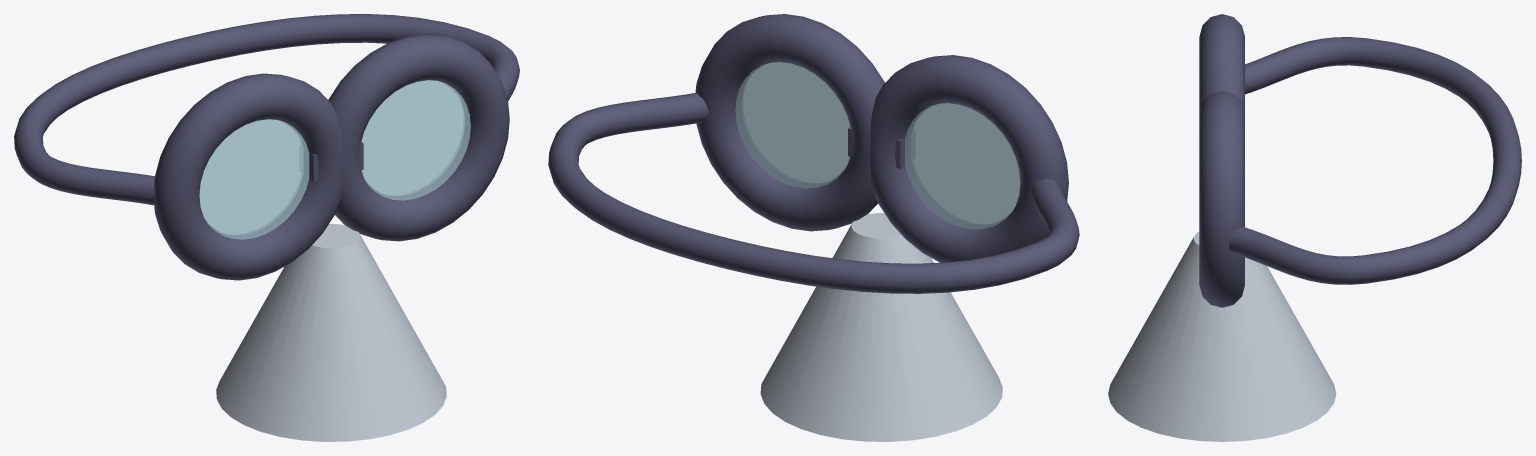
Rendered from goggles.glb.
3 renders of one model, left to right at view 1: azimuth 30°, elevation 25°; view 2: azimuth 150°, elevation 25°; view 3: azimuth 270°, elevation 25°, orthographic. The views are drawn at different scales.
Parts seen in each view (by area): view 1: goggles; view 2: goggles; view 3: goggles.
Part boxes in pixels (x1=…): goggles: x1=14, y1=14, x2=519, y2=441; goggles: x1=548, y1=14, x2=1079, y2=441; goggles: x1=1108, y1=14, x2=1521, y2=441.
Size of the model in its own units: 0.9593 by 0.64 by 0.725.
